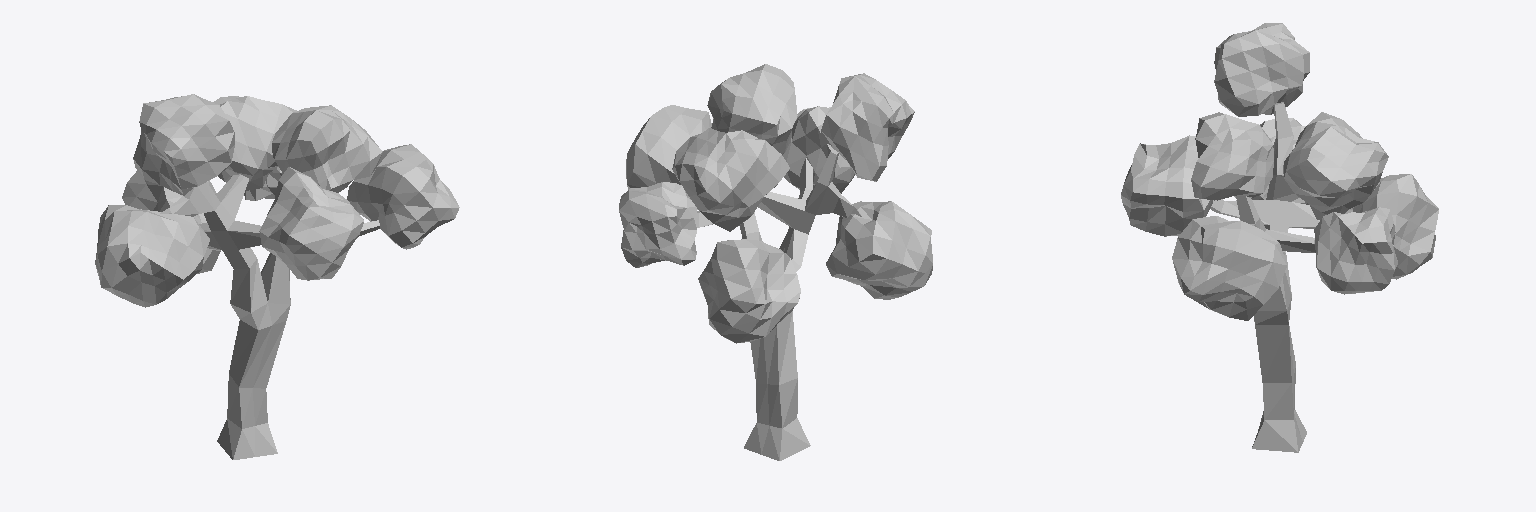
Rendered from oak_tree.obj.
3 views of the same model, side by side, from view 1: azimuth 30°, elevation 25°; view 2: azimuth 150°, elevation 25°; view 3: azimuth 270°, elevation 25° (orthographic).
Parts seen in each view (by area): view 1: tyLeaves_Cube.003, Tree_yellow_Cube.001; view 2: tyLeaves_Cube.003, Tree_yellow_Cube.001; view 3: tyLeaves_Cube.003, Tree_yellow_Cube.001.
Boxes of the visible parts, box(x1,y1,x2,y2) form: tyLeaves_Cube.003: box(95, 94, 459, 307); Tree_yellow_Cube.001: box(160, 174, 379, 459); tyLeaves_Cube.003: box(619, 64, 932, 343); Tree_yellow_Cube.001: box(694, 149, 861, 460); tyLeaves_Cube.003: box(1121, 23, 1438, 320); Tree_yellow_Cube.001: box(1210, 102, 1319, 452).
Bounding box in the file's own units: 24.69 × 27.96 × 21.34.